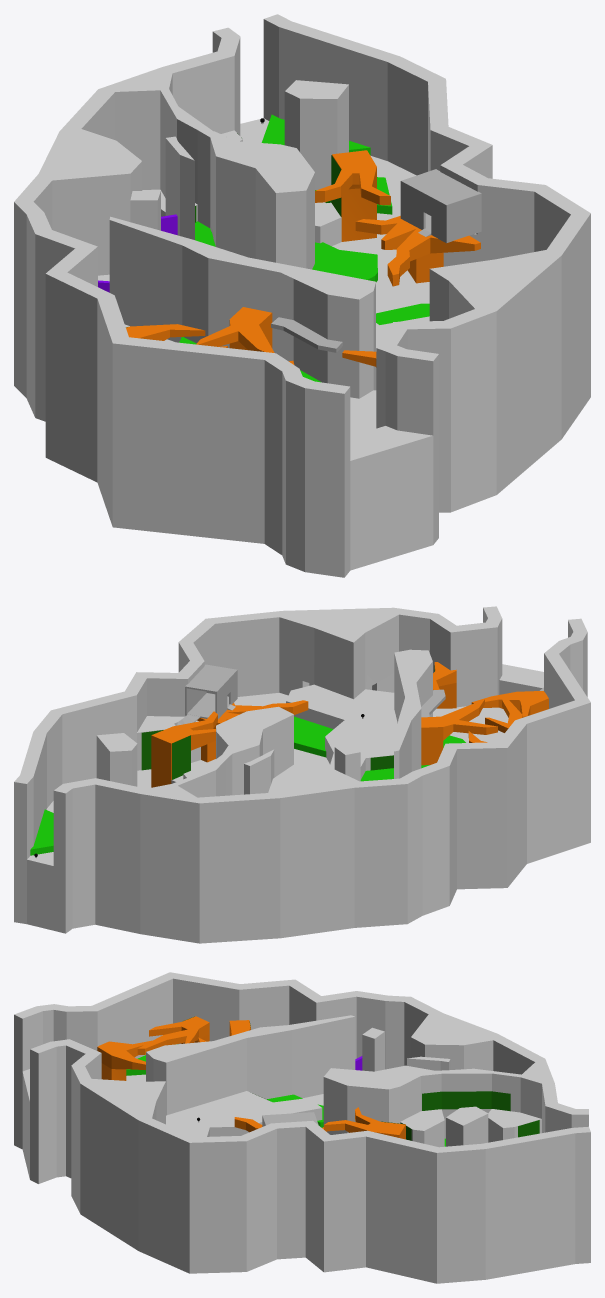
File: Terrain (tier 1).fbx
The picture shows the model from 3 angles, top to bottom: view 1: azimuth 30°, elevation 25°; view 2: azimuth 150°, elevation 25°; view 3: azimuth 270°, elevation 25°; orthographic projection. The views are drawn at different scales.
Visible parts, largest first — view 1: Terrain__tier_1_, Tree_House, Tree__6_, Tree__5_, Tree__2_, GZ_A_4, WallBridge_1, Tree, GZ_A_6; view 2: Terrain__tier_1_, Tree_House, Tree__2_, Tree__5_, Tree__3_, GZ_A_6, Tree__6_, Tree__4_, GZ_A, ClimbWall_3, Tree__1_, ClimbWall__6_; view 3: Terrain__tier_1_, Tree__1_, Tree__3_, Tree__5_, ClimbWall__3_, Tree_House.
Part boxes in pixels (x1=…): Terrain__tier_1_: x1=14, y1=14, x2=590, y2=577; Tree_House: x1=400, y1=169, x2=481, y2=243; Tree__6_: x1=355, y1=216, x2=480, y2=286; Tree__5_: x1=315, y1=150, x2=390, y2=241; Tree__2_: x1=196, y1=307, x2=274, y2=352; GZ_A_4: x1=312, y1=250, x2=377, y2=282; WallBridge_1: x1=271, y1=317, x2=342, y2=352; Tree: x1=126, y1=324, x2=205, y2=340; GZ_A_6: x1=376, y1=303, x2=429, y2=324; Terrain__tier_1_: x1=14, y1=606, x2=590, y2=943; Tree_House: x1=185, y1=664, x2=237, y2=718; Tree__2_: x1=421, y1=699, x2=497, y2=765; Tree__5_: x1=151, y1=711, x2=217, y2=787; Tree__3_: x1=471, y1=691, x2=548, y2=717; GZ_A_6: x1=294, y1=716, x2=333, y2=757; Tree__6_: x1=197, y1=700, x2=308, y2=762; Tree__4_: x1=433, y1=662, x2=456, y2=708; GZ_A: x1=30, y1=809, x2=53, y2=855; ClimbWall_3: x1=172, y1=735, x2=190, y2=779; Tree__1_: x1=485, y1=697, x2=540, y2=732; ClimbWall__6_: x1=141, y1=730, x2=163, y2=770; Terrain__tier_1_: x1=14, y1=972, x2=590, y2=1283; Tree__1_: x1=137, y1=1016, x2=209, y2=1054; Tree__3_: x1=97, y1=1040, x2=151, y2=1080; Tree__5_: x1=324, y1=1107, x2=405, y2=1139; ClimbWall__3_: x1=441, y1=1091, x2=491, y2=1109; Tree_House: x1=262, y1=1112, x2=318, y2=1126.
Size of the model in its own units: 13196 by 4452 by 17799.
